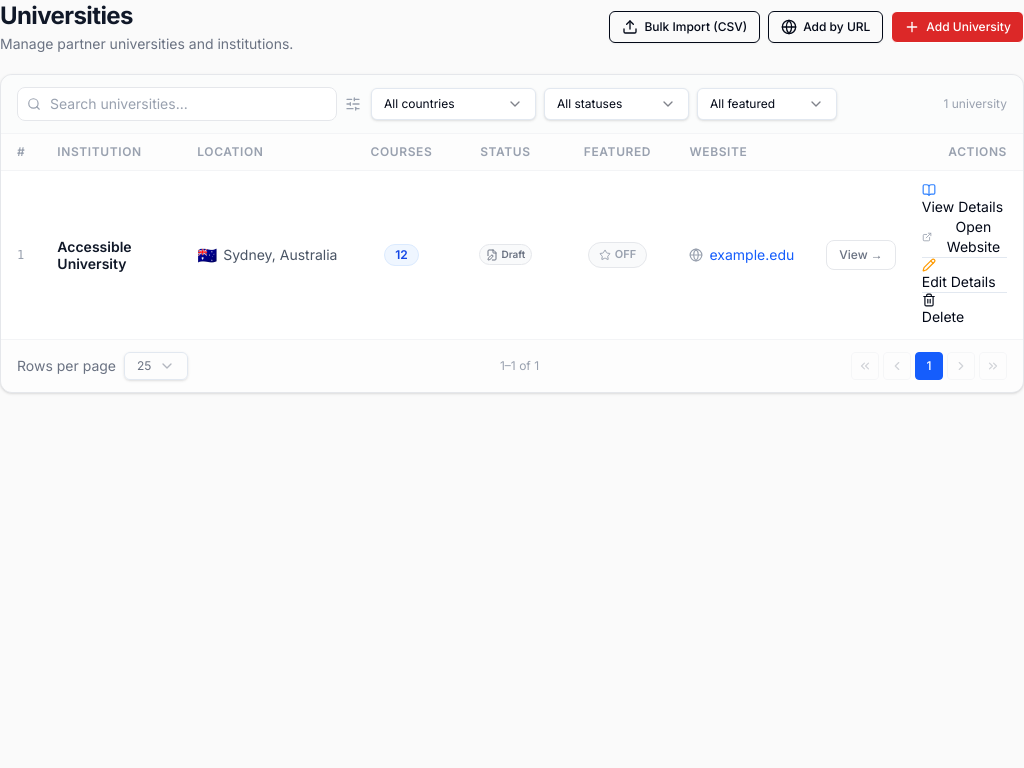
Universities dialogs › opens the delete dialog
The width and height of the screenshot is (1024, 768).
Click the menu item "Delete".
click(943, 310)  # box [922,293,964,327]
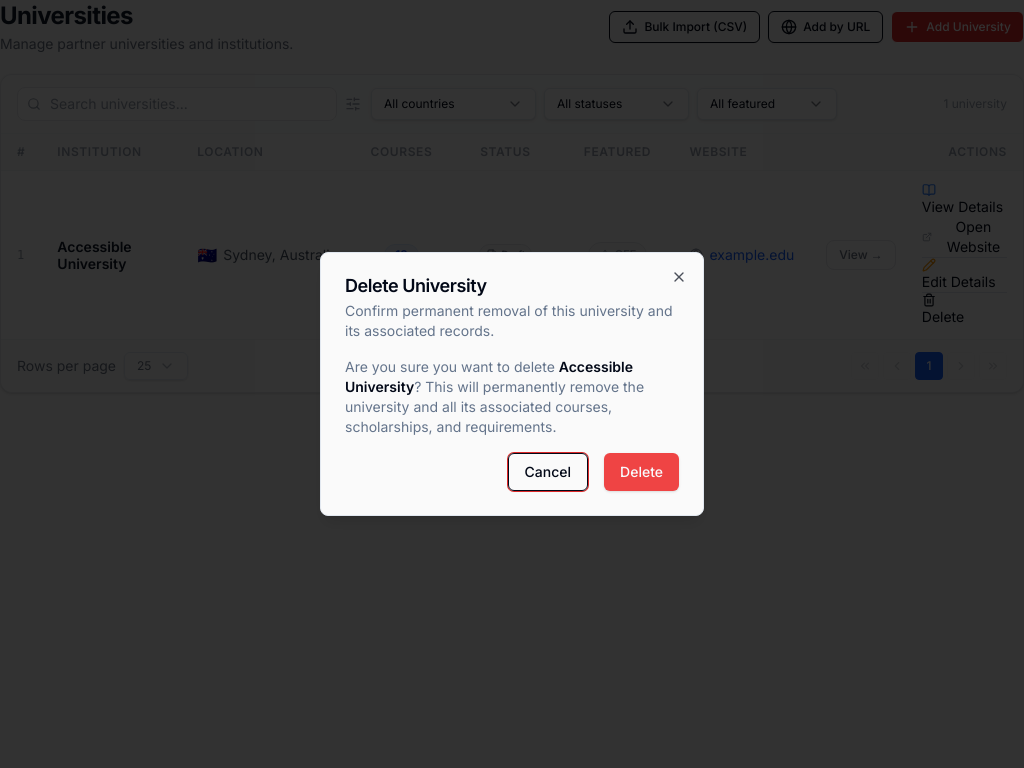
Expected: the dialog "Delete University" is shown, [320,252,704,516]
